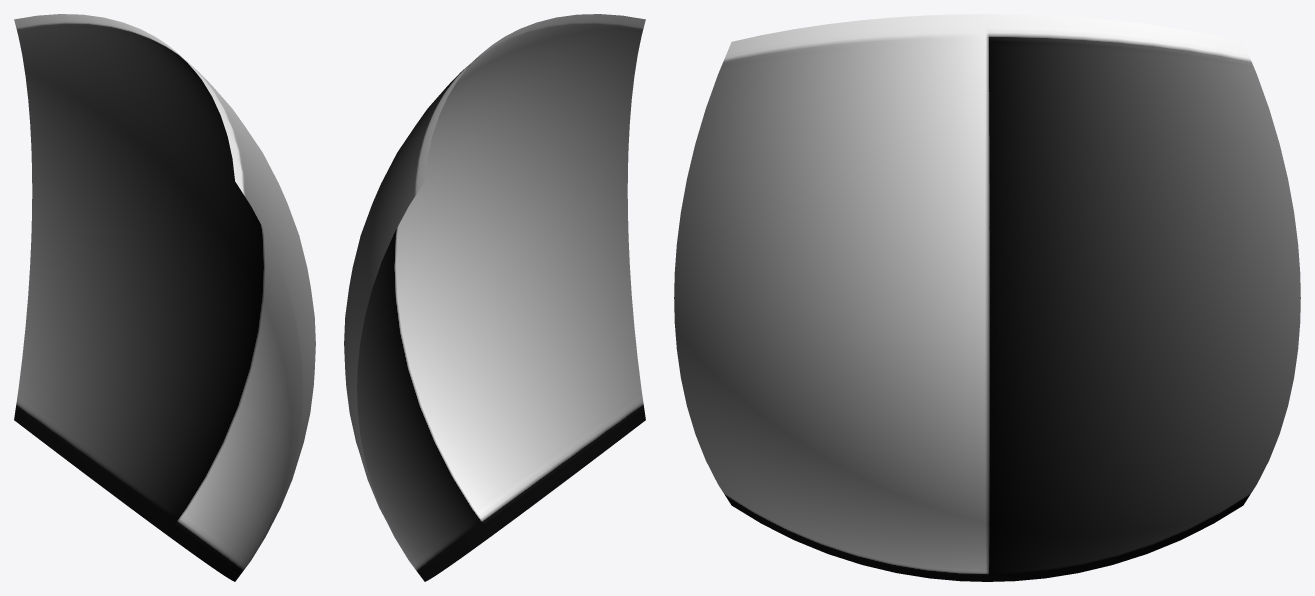
The model's file is test_0.5_False_False.glb.
The picture shows the model from 3 angles, left to right: view 1: azimuth 30°, elevation 25°; view 2: azimuth 150°, elevation 25°; view 3: azimuth 270°, elevation 25°; orthographic projection. The views are drawn at different scales.
Bounding box in the file's own units: 734312 × 2457055 × 2457055.
1 material, 1 textured.
